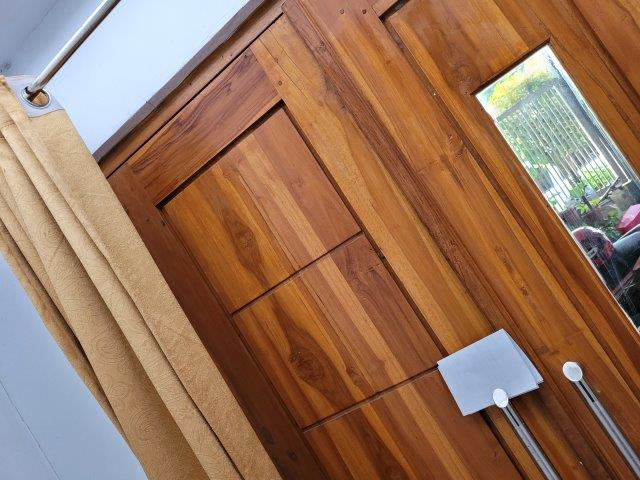kertas: (436, 330, 545, 415)
